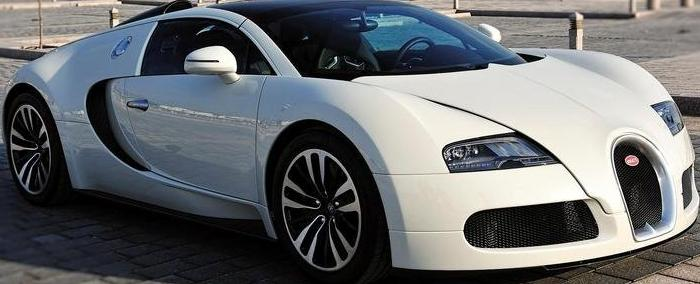front_view: (398, 98, 700, 275)
headlight: (439, 125, 568, 182)
side_glass: (137, 18, 284, 83)
